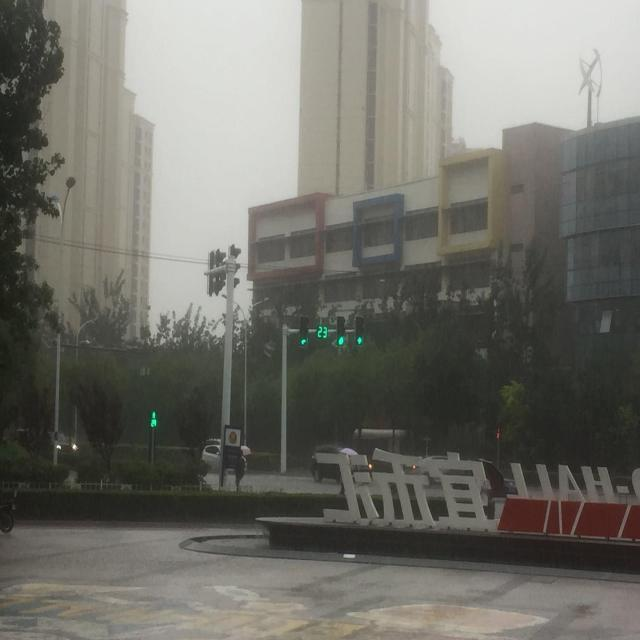car: (311, 443, 372, 482), (202, 444, 247, 472)
